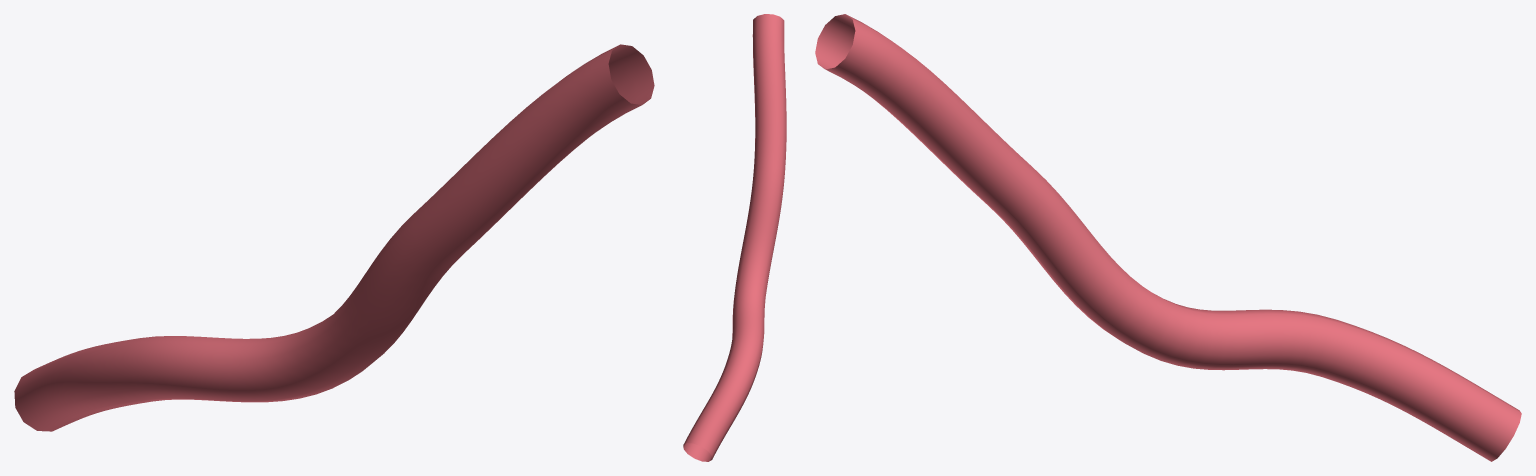
3 renders of one model, left to right at view 1: azimuth 30°, elevation 25°; view 2: azimuth 150°, elevation 25°; view 3: azimuth 270°, elevation 25°, orthographic. The views are drawn at different scales.
Parts seen in each view (by area): view 1: ZA_75fb12c11c0d2f27; view 2: ZA_75fb12c11c0d2f27; view 3: ZA_75fb12c11c0d2f27.
Part boxes in pixels (x1,y1,x2,y2): ZA_75fb12c11c0d2f27: (14,44,654,431); ZA_75fb12c11c0d2f27: (683,14,786,461); ZA_75fb12c11c0d2f27: (815,14,1521,461).
Bounding box in the file's own units: 0.00896 × 0.018 × 0.0214.
